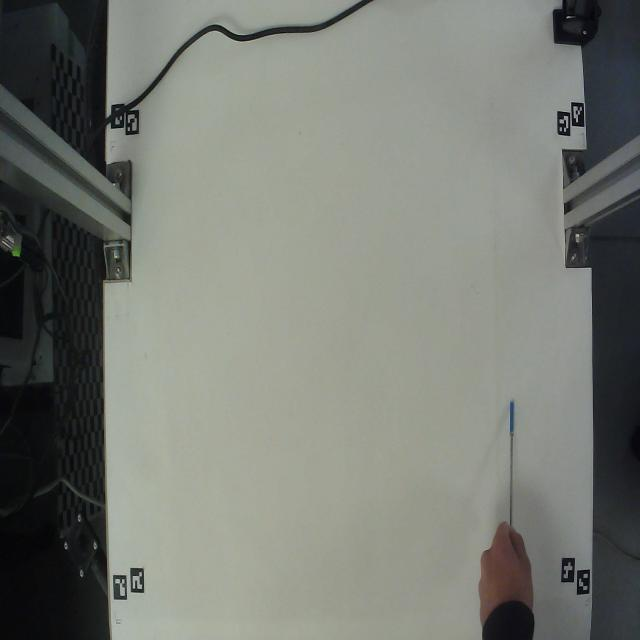Pres: (489, 359, 535, 526)
